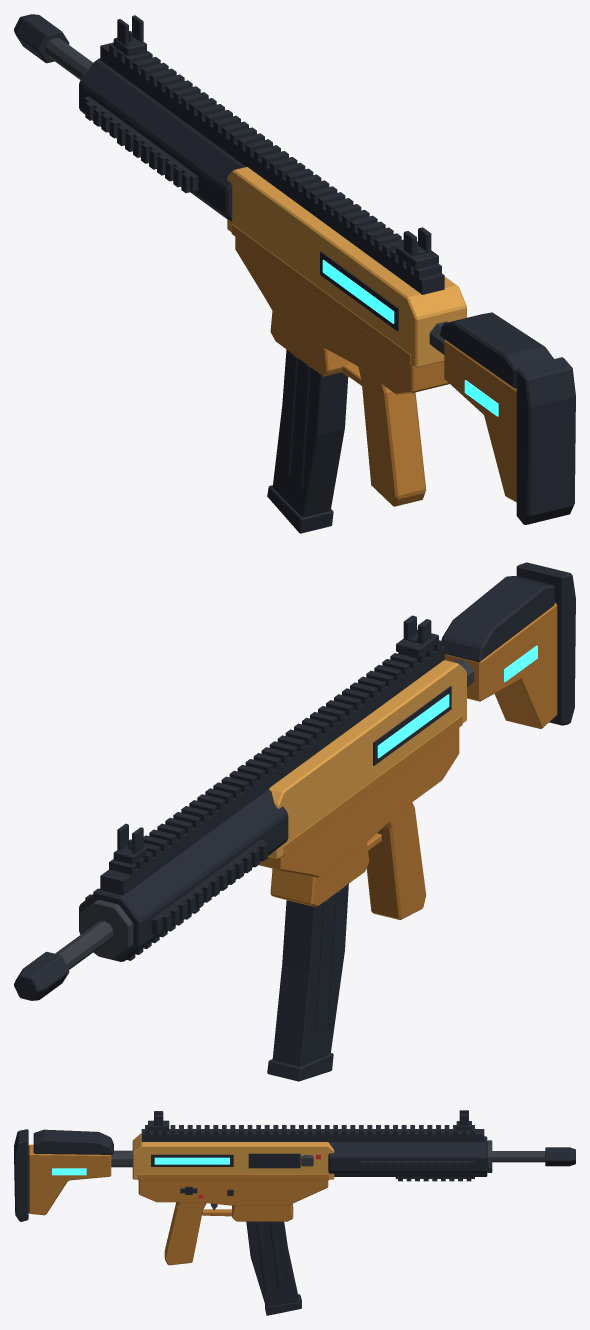
File: ar_lancer.glb
3 views of the same model, one above another, from view 1: azimuth 30°, elevation 25°; view 2: azimuth 150°, elevation 25°; view 3: azimuth 270°, elevation 25° (orthographic). The views are drawn at different scales.
Parts seen in each view (by area): view 1: rail_top, receiver_upper, part_mag, stock_pad, receiver_lower, handguard, grip, stock_frame, stock_cheek, rail_side, receiver_upper_trim, magwell (+6 smaller); view 2: rail_top, part_mag, receiver_upper, handguard, receiver_lower, stock_frame, stock_cheek, grip, stock_pad, magwell, rail_side, receiver_upper_trim (+7 smaller); view 3: rail_top, receiver_upper, handguard, receiver_lower, part_mag, stock_frame, stock_cheek, grip, receiver_upper_trim, stock_pad, rail_side, magwell (+9 smaller).
Boxes of the visible parts, x1,y1,x2,y2 form: rail_top: (100,42,444,294); receiver_upper: (227,167,466,367); part_mag: (267,349,348,533); stock_pad: (516,357,575,524); receiver_lower: (235,237,449,394); handguard: (79,58,245,220); grip: (358,367,426,506); stock_frame: (444,339,516,502); stock_cheek: (440,312,553,388); rail_side: (83,96,198,191); receiver_upper_trim: (231,224,412,365); magwell: (270,310,351,376); rail_top: (100,640,444,895); part_mag: (267,884,348,1081); receiver_upper: (268,660,466,858); handguard: (79,789,288,961); receiver_lower: (259,728,459,877); stock_frame: (444,603,557,728); stock_cheek: (441,576,554,662); grip: (366,802,426,919); stock_pad: (516,562,575,725); magwell: (270,842,369,907); rail_side: (85,839,267,935); receiver_upper_trim: (281,715,462,856); rail_top: (141,1125,484,1142); receiver_upper: (132,1133,334,1179); handguard: (328,1136,487,1176); receiver_lower: (138,1180,328,1205); part_mag: (246,1221,301,1315); stock_frame: (28,1144,111,1215); stock_cheek: (33,1129,113,1154); grip: (164,1202,206,1265); receiver_upper_trim: (137,1174,329,1180); stock_pad: (14,1129,28,1221); rail_side: (359,1161,474,1171); magwell: (232,1204,293,1221).
Size of the model in its own units: 0.083 by 0.3598 by 0.919.
